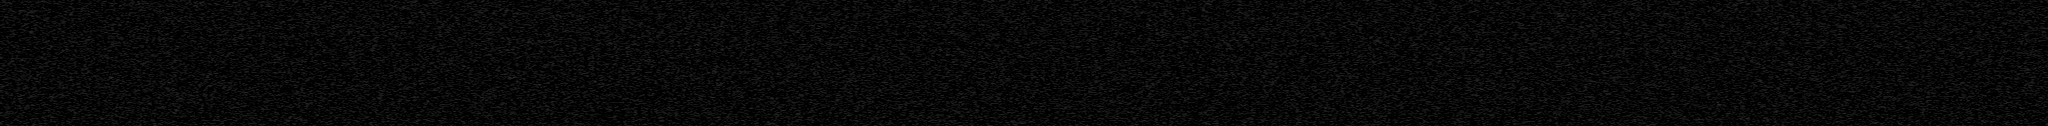wv_am: (792, 0, 797, 73), (792, 73, 797, 126)
wv_cw: (1064, 0, 1070, 126)
wv_lsb: (84, 3, 93, 126)
wv_usb: (921, 28, 931, 126), (956, 29, 964, 126), (997, 55, 1004, 126), (956, 16, 963, 22), (997, 5, 1000, 16), (956, 5, 963, 10), (997, 47, 1000, 52), (956, 12, 963, 14)
wv_wbfm: (357, 0, 635, 123), (633, 8, 643, 39), (636, 0, 643, 8), (347, 121, 357, 123), (529, 123, 532, 126), (637, 50, 640, 52)
